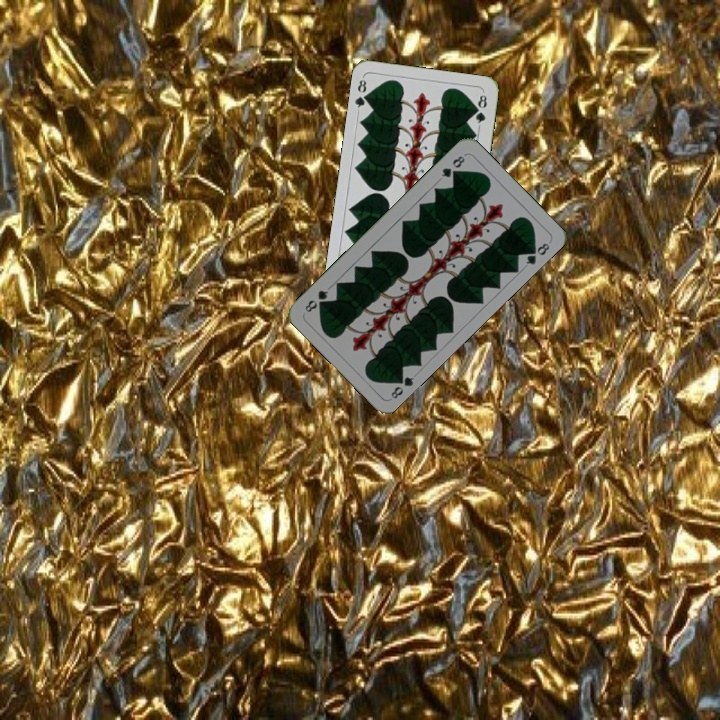G8: (387, 370, 417, 401), (437, 152, 468, 180), (351, 74, 372, 114)
